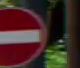No entry: (0, 5, 56, 65)
